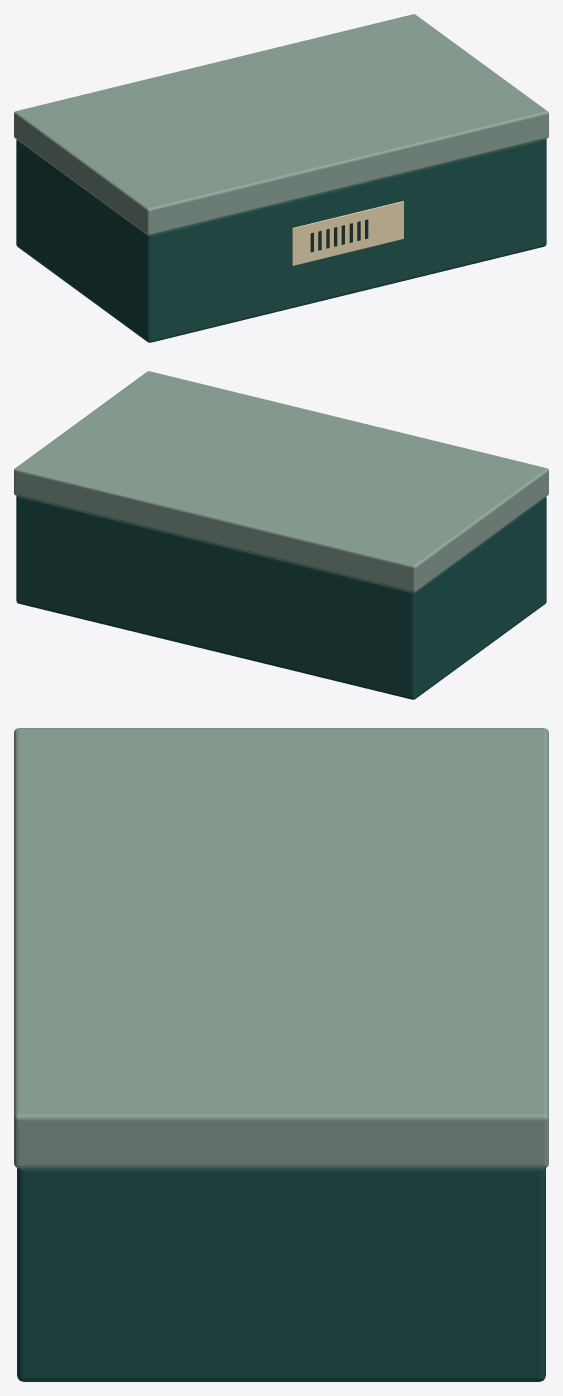
The model's file is shoebox.glb.
3 renders of one model, top to bottom at view 1: azimuth 30°, elevation 25°; view 2: azimuth 150°, elevation 25°; view 3: azimuth 270°, elevation 25°, orthographic. The views are drawn at different scales.
Visible parts, largest first — view 1: shoebox; view 2: shoebox; view 3: shoebox.
Boxes of the visible parts, box(x1,y1,x2,y2) form: shoebox: box(14, 14, 548, 342); shoebox: box(14, 371, 548, 699); shoebox: box(14, 728, 548, 1381).
Bounding box in the file's own units: 0.155 × 0.05 × 0.09.
